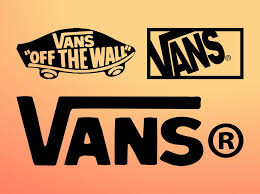vans: (16, 95, 204, 168), (148, 28, 225, 79), (53, 30, 95, 49)
